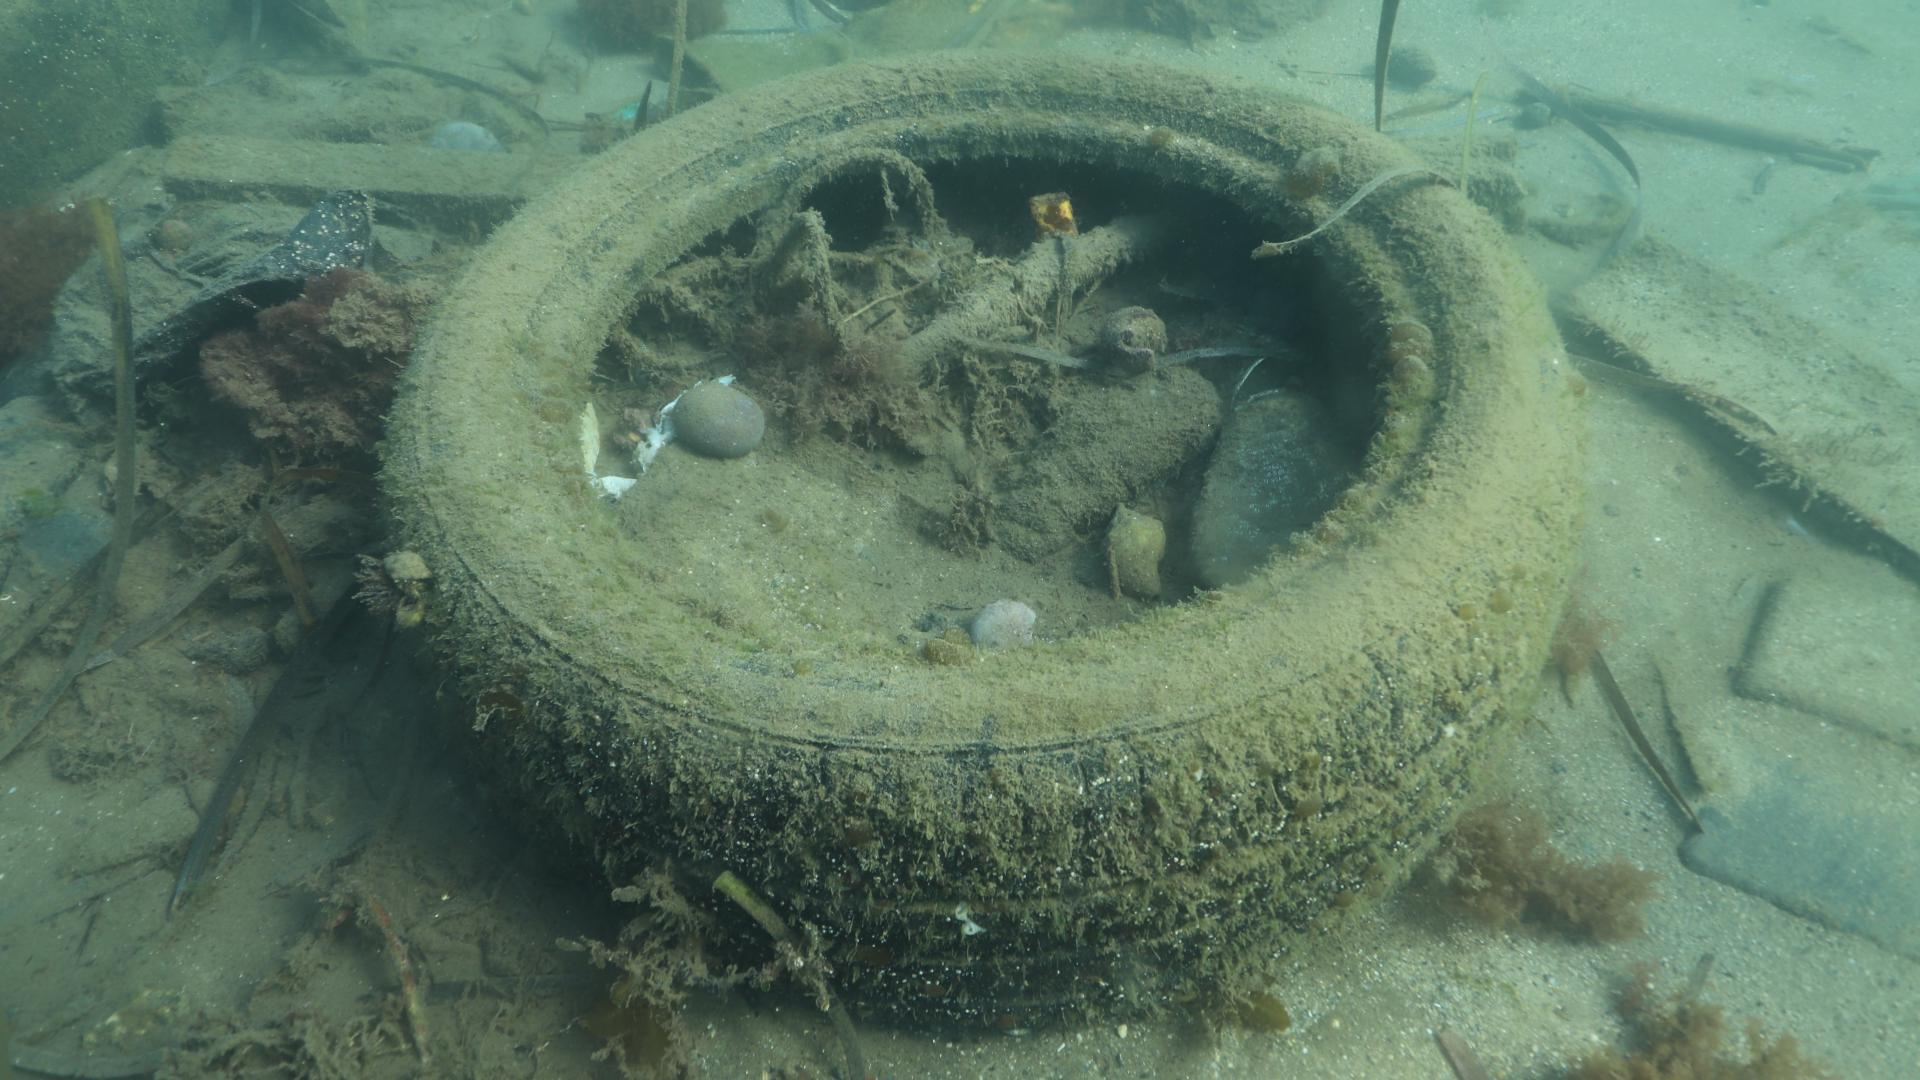tire: (372, 45, 1592, 1033)
